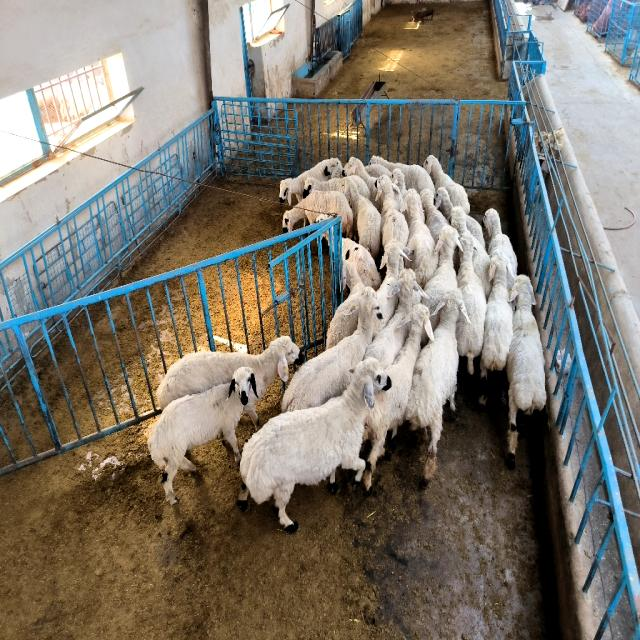sheep: (240, 358, 389, 531), (148, 368, 256, 504), (156, 335, 299, 429), (364, 305, 432, 491), (405, 288, 469, 484), (281, 287, 381, 412), (506, 275, 546, 470), (365, 268, 424, 368), (478, 252, 514, 408), (421, 225, 461, 328), (456, 238, 486, 374), (401, 188, 439, 288), (450, 207, 491, 298), (326, 260, 365, 348), (282, 190, 352, 238), (346, 177, 381, 259), (424, 155, 470, 215), (371, 155, 435, 193), (376, 175, 409, 246), (279, 160, 330, 205), (484, 208, 518, 275), (420, 188, 449, 243), (344, 157, 376, 193), (302, 177, 349, 200), (466, 215, 485, 248), (435, 187, 452, 220), (350, 175, 371, 200)
